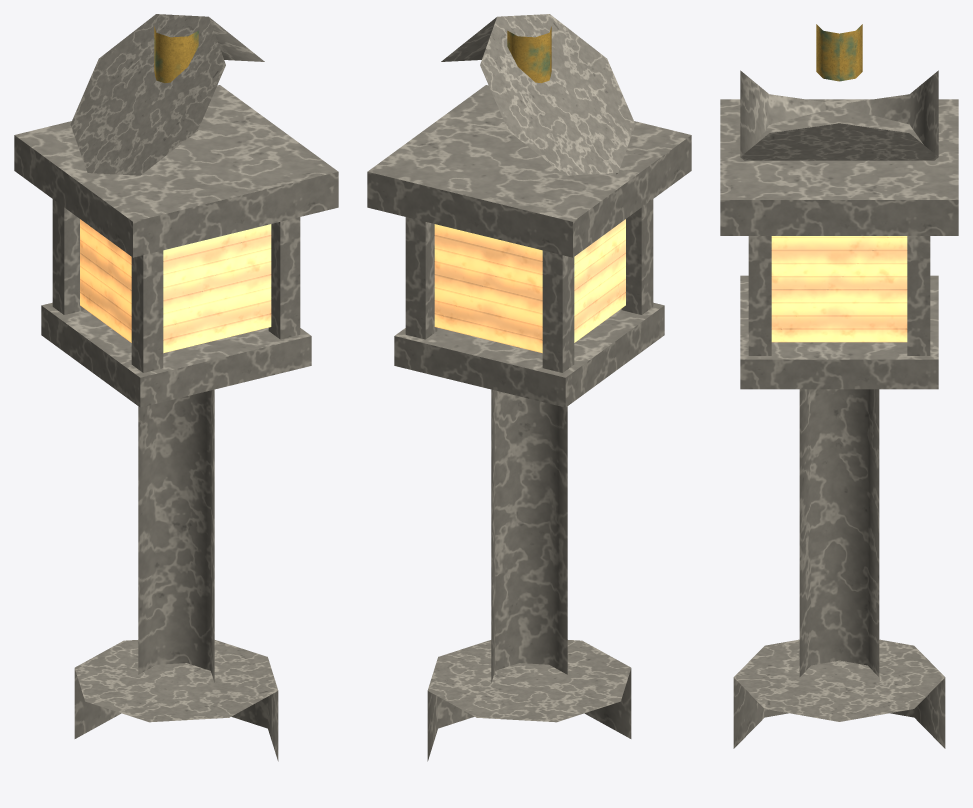
The model's file is stone_lantern.gltf.
3 views of the same model, side by side, from view 1: azimuth 30°, elevation 25°; view 2: azimuth 150°, elevation 25°; view 3: azimuth 270°, elevation 25° (orthographic).
Parts seen in each view (by area): view 1: StoneLantern; view 2: StoneLantern; view 3: StoneLantern.
Boxes of the visible parts, x1,y1,x2,y2 form: StoneLantern: (14,14,338,761); StoneLantern: (367,14,691,761); StoneLantern: (720,24,958,748).
Size of the model in its own units: 0.72 by 2.43 by 0.72.
Materials: 3 (3 with a texture image).
